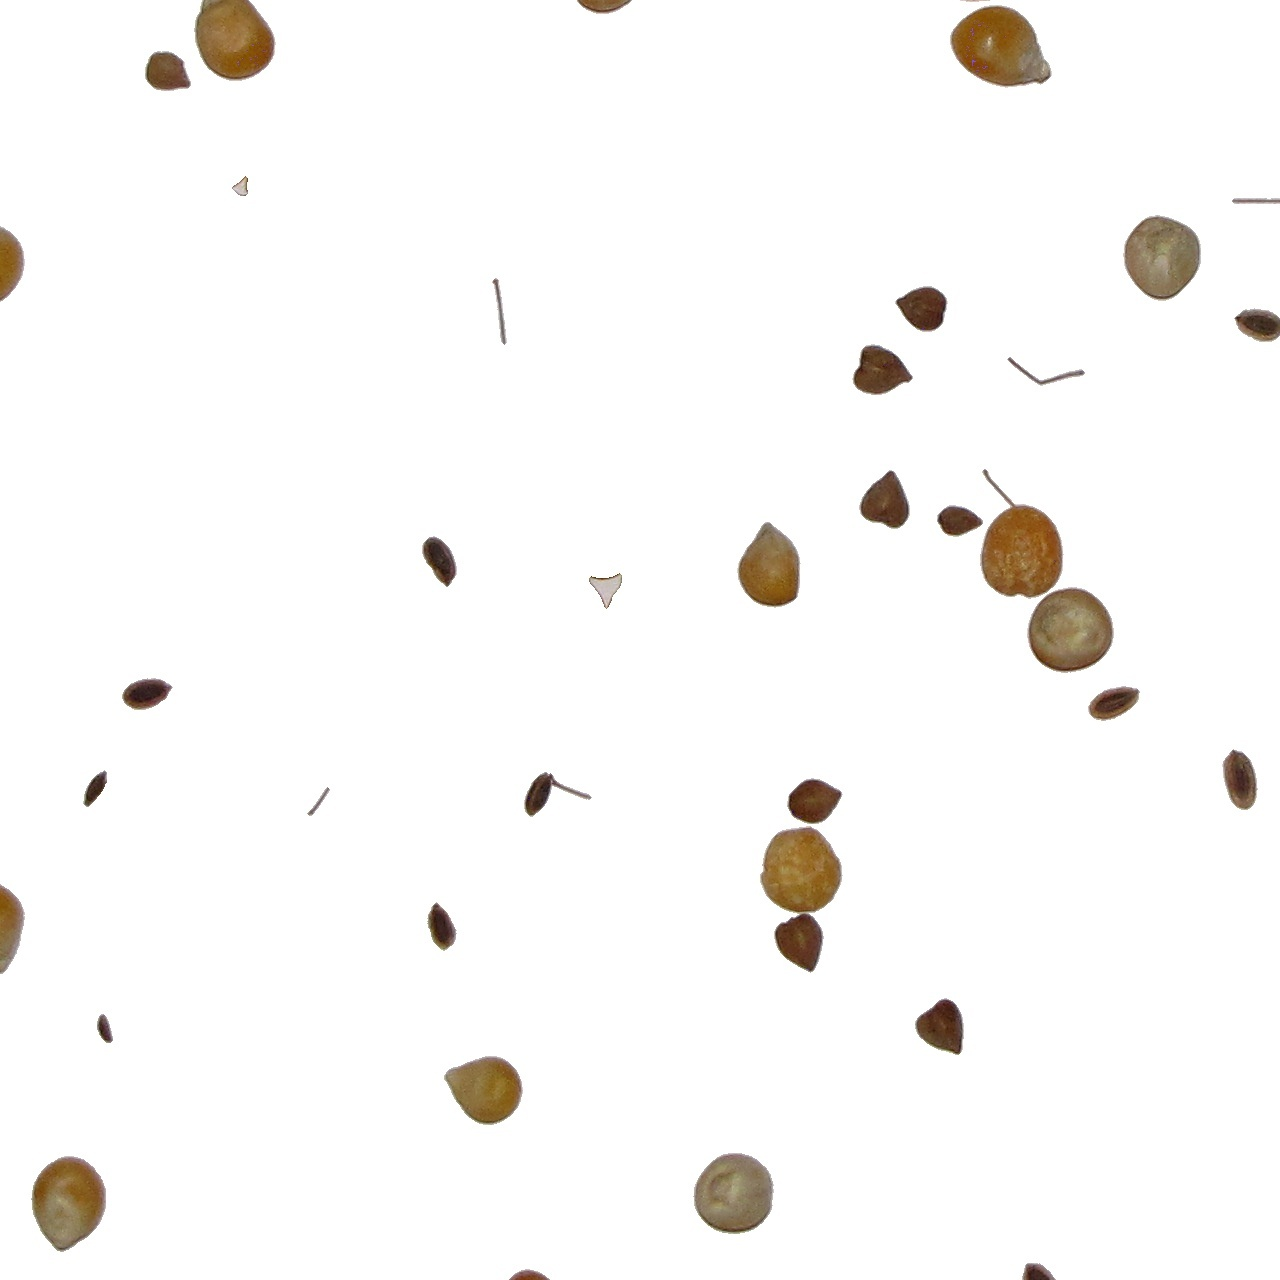buckwheat: (772, 911, 825, 974), (851, 343, 914, 396), (858, 469, 911, 530), (914, 994, 965, 1053), (787, 777, 844, 825), (894, 285, 949, 333), (421, 535, 458, 588), (121, 678, 173, 712), (425, 904, 458, 955), (86, 771, 113, 821), (588, 572, 622, 610), (491, 277, 508, 346), (306, 787, 331, 817), (1021, 1262, 1061, 1280), (231, 175, 248, 197)
dill: (523, 771, 593, 818), (1231, 197, 1280, 205)
mais: (949, 4, 1053, 89), (979, 501, 1065, 600), (1026, 586, 1115, 674), (760, 825, 844, 915), (30, 1155, 107, 1253), (1122, 215, 1201, 302), (692, 1152, 775, 1235), (195, 1, 275, 82), (736, 520, 802, 610), (443, 1055, 524, 1126), (1, 219, 29, 308), (1, 878, 27, 961), (577, 1, 633, 18), (496, 1268, 563, 1280)
other: (1006, 356, 1085, 387), (1221, 748, 1259, 811), (1087, 685, 1141, 722), (931, 504, 983, 542), (144, 50, 192, 91), (1235, 307, 1280, 343), (96, 1013, 114, 1044)
